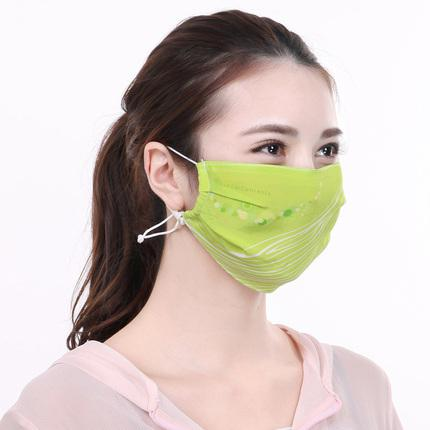OK: (175, 105, 350, 287)
